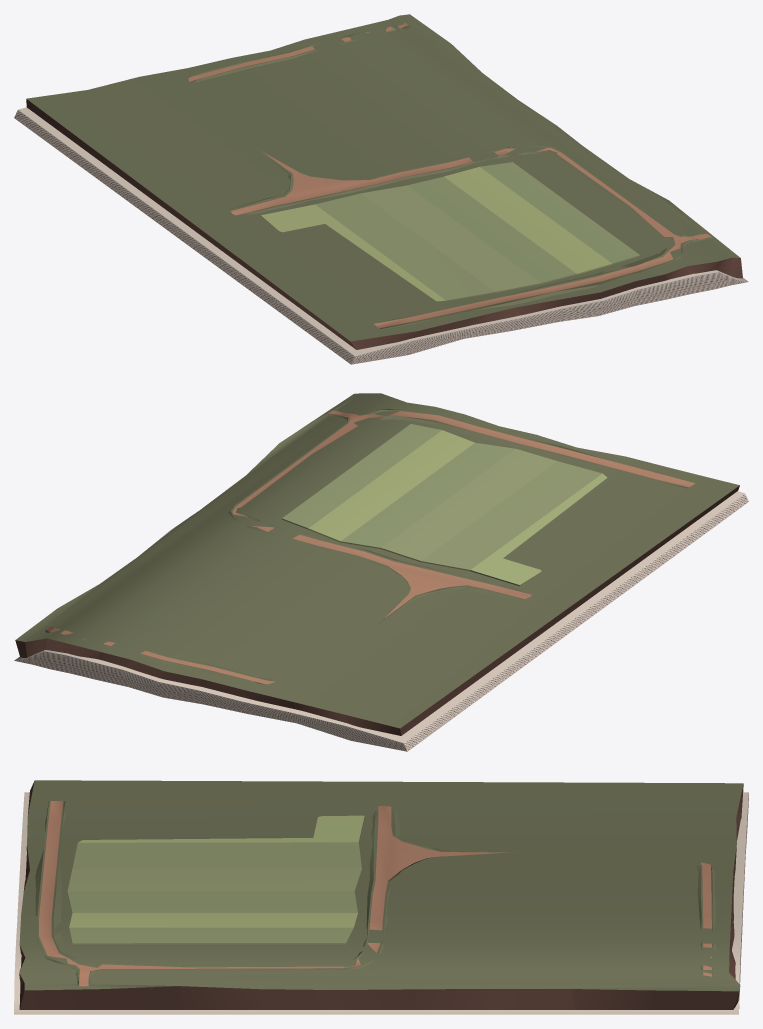
The model's file is terreno2.obj.
3 renders of one model, top to bottom at view 1: azimuth 30°, elevation 25°; view 2: azimuth 150°, elevation 25°; view 3: azimuth 270°, elevation 25°, orthographic. The views are drawn at different scales.
Parts seen in each view (by area): view 1: Scene; view 2: Scene; view 3: Scene.
Part boxes in pixels (<box>): Scene: <box>14,14,748,364</box>; Scene: <box>14,393,748,751</box>; Scene: <box>14,780,748,1014</box>.
Size of the model in its own units: 1817 by 125 by 2738.
Materials: 1 (1 with a texture image).
